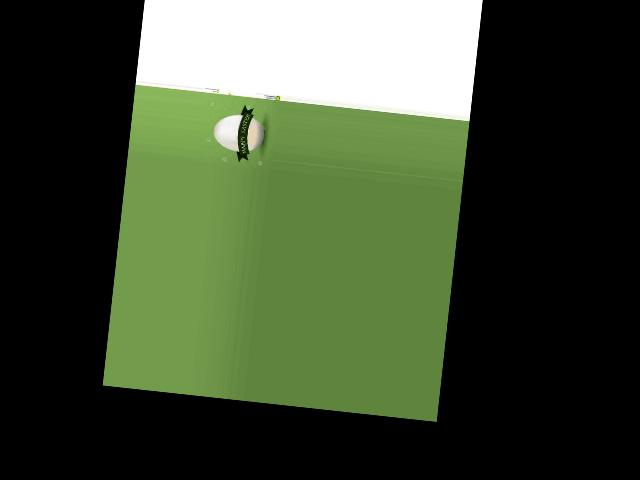egg: (212, 111, 266, 153)
